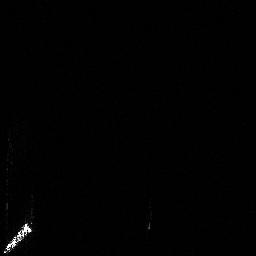ship: (1, 218, 34, 256)
